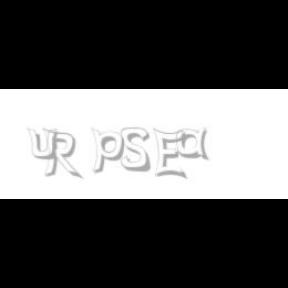E: (153, 128, 186, 180)
R: (42, 128, 80, 180)
S: (120, 128, 152, 172)
a: (177, 128, 214, 160)
p: (92, 128, 128, 174)
u: (26, 128, 62, 160)
